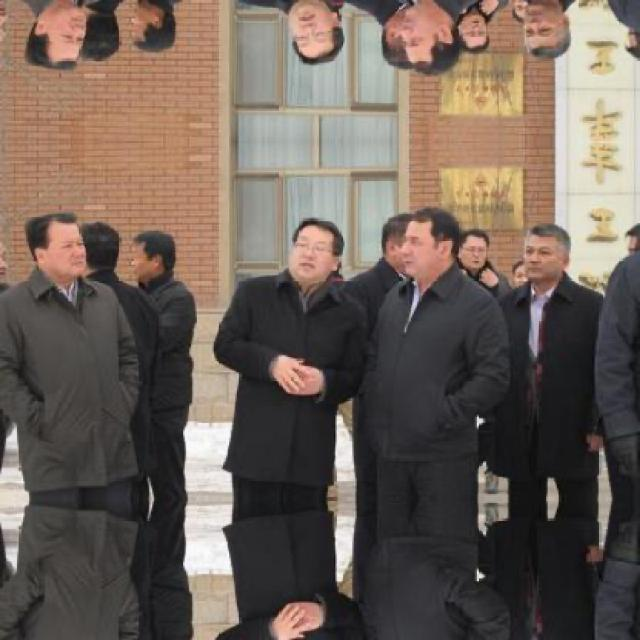sin casco: (241, 214, 351, 272), (13, 212, 97, 280), (386, 205, 484, 258), (512, 220, 582, 269)
